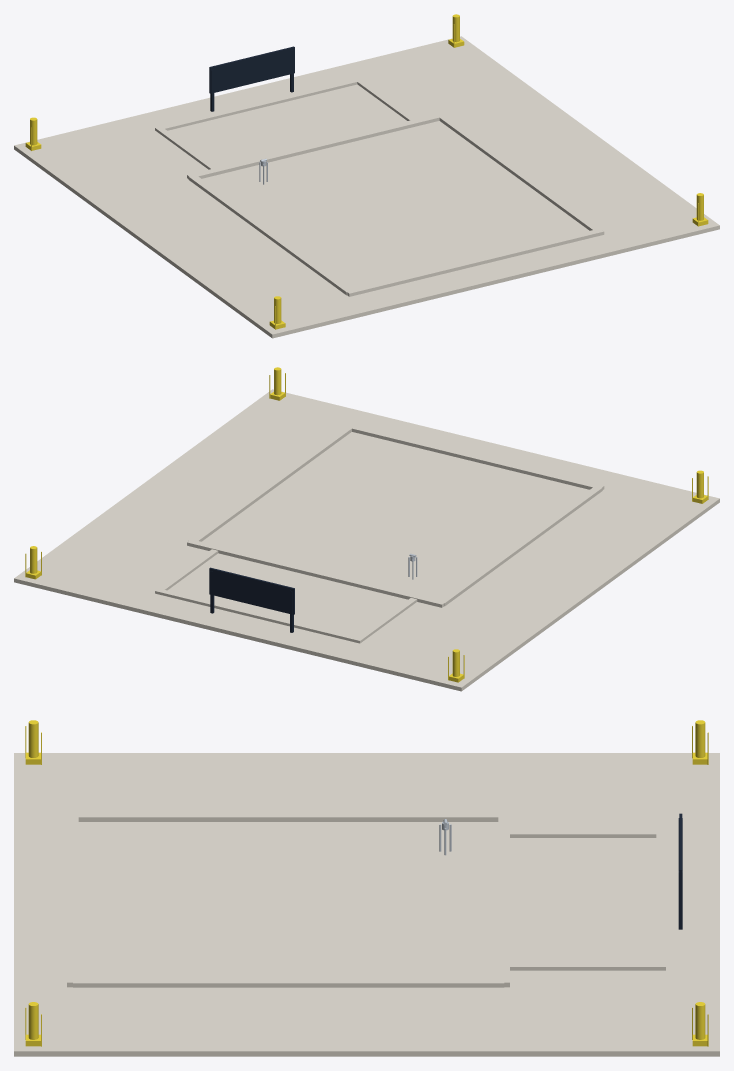
File: hq_05_chassis_l0.glb
3 renders of one model, top to bottom at view 1: azimuth 30°, elevation 25°; view 2: azimuth 150°, elevation 25°; view 3: azimuth 270°, elevation 25°, orthographic. The views are drawn at different scales.
Parts seen in each view (by area): view 1: GEO_Chassis_Plot_Excavation_Pad, GEO_Chassis_Foundation_Trench_Curbs, GEO_Chassis_Project_Billboard, GEO_Chassis_Survey_Boundary_Pylons; view 2: GEO_Chassis_Plot_Excavation_Pad, GEO_Chassis_Foundation_Trench_Curbs, GEO_Chassis_Project_Billboard, GEO_Chassis_Survey_Boundary_Pylons; view 3: GEO_Chassis_Plot_Excavation_Pad, GEO_Chassis_Foundation_Trench_Curbs, GEO_Chassis_Survey_Boundary_Pylons, GEO_Chassis_Project_Billboard.
Part boxes in pixels (x1,y1,x2,y2): GEO_Chassis_Plot_Excavation_Pad: (14,36,719,338); GEO_Chassis_Foundation_Trench_Curbs: (155,78,604,296); GEO_Chassis_Project_Billboard: (209,46,294,111); GEO_Chassis_Survey_Boundary_Pylons: (25,14,708,329); GEO_Chassis_Plot_Excavation_Pad: (14,389,719,691); GEO_Chassis_Foundation_Trench_Curbs: (155,424,604,643); GEO_Chassis_Project_Billboard: (209,567,294,632); GEO_Chassis_Survey_Boundary_Pylons: (25,367,708,682); GEO_Chassis_Plot_Excavation_Pad: (14,753,719,1056); GEO_Chassis_Foundation_Trench_Curbs: (67,812,665,987); GEO_Chassis_Survey_Boundary_Pylons: (25,720,708,1046); GEO_Chassis_Project_Billboard: (678,813,682,929).
Size of what is drawn, in the model's own units: 36 by 3.7 by 36.
